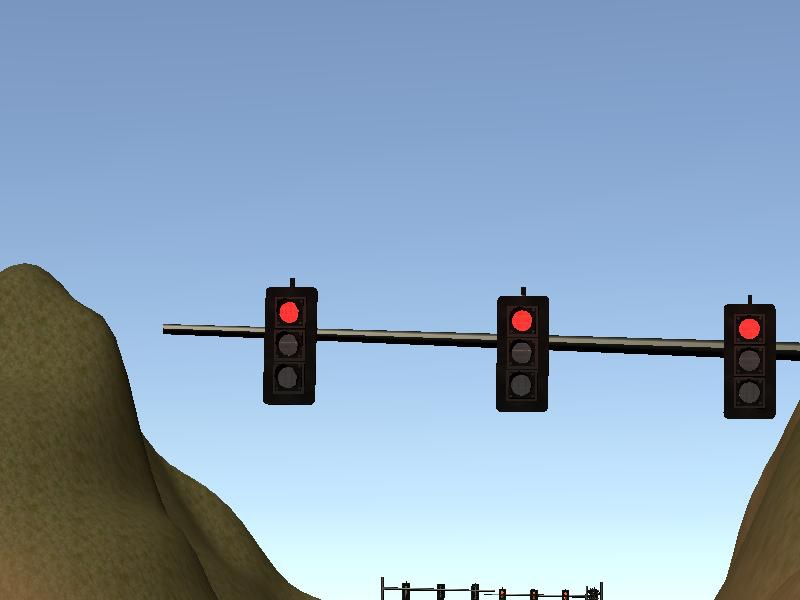red_light: (499, 298, 547, 411), (266, 290, 314, 401), (728, 308, 773, 416)
